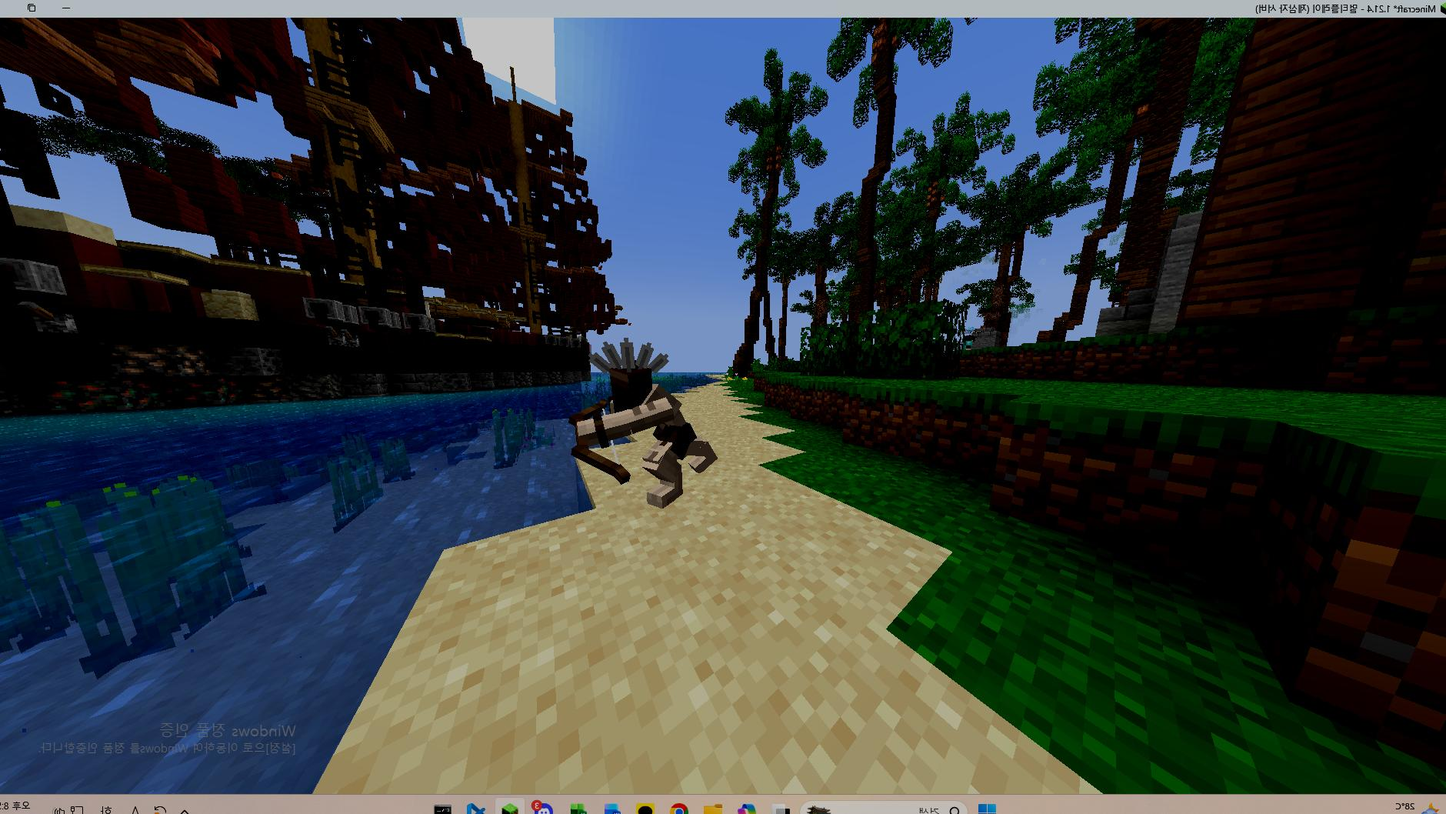bow_indian: (527, 331, 730, 547)
